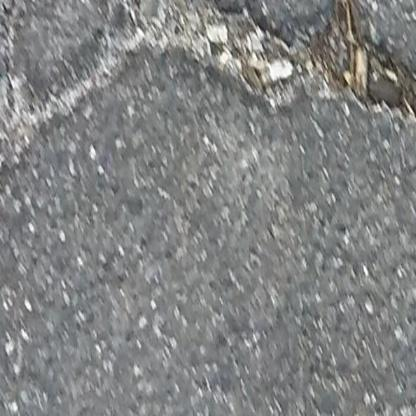Cracks: (0, 0, 416, 217)
